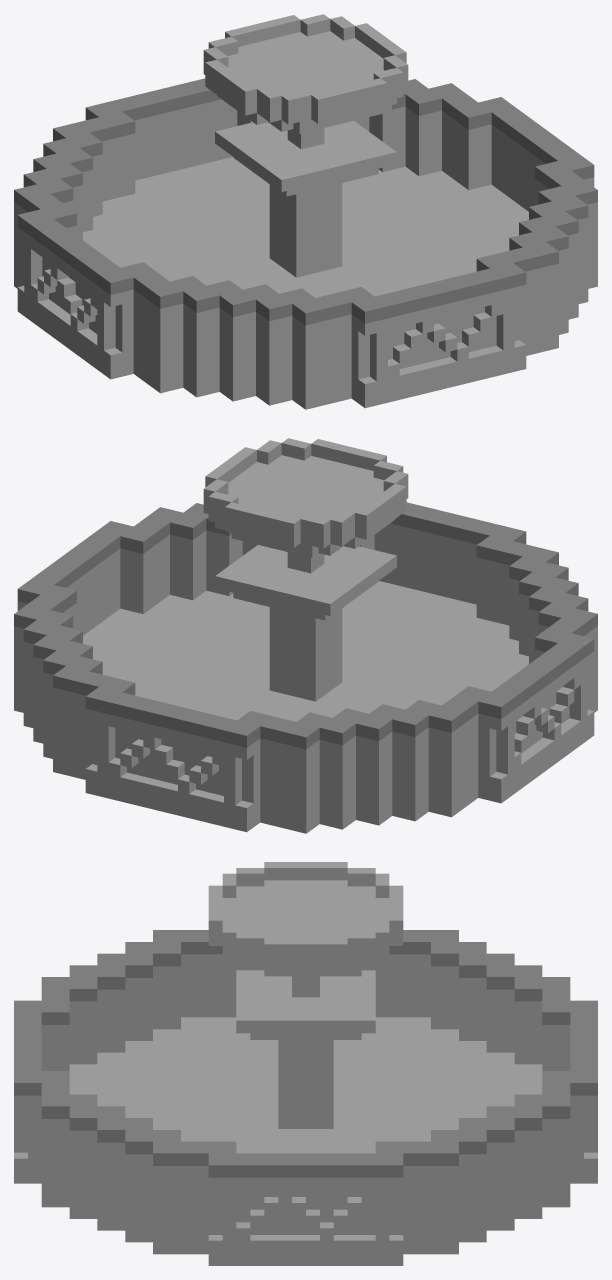
The model's file is Fountain.obj.
3 views of the same model, one above another, from view 1: azimuth 30°, elevation 25°; view 2: azimuth 150°, elevation 25°; view 3: azimuth 270°, elevation 25° (orthographic). The views are drawn at different scales.
Bounding box in the file's own units: 4.2 × 1.9 × 4.2.
1 material, 1 textured.
